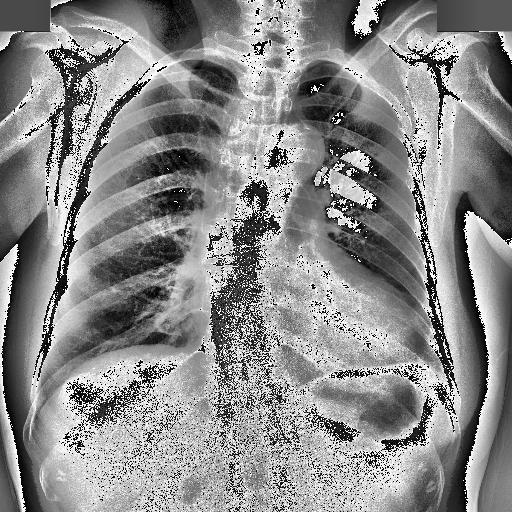0- Aortic enlargement: (236, 124, 324, 184), (270, 126, 324, 179)
3- Cardiomegaly: (199, 284, 426, 378), (203, 273, 421, 365), (198, 290, 432, 362)
9- Other lesion: (202, 64, 296, 350), (210, 110, 259, 380)
